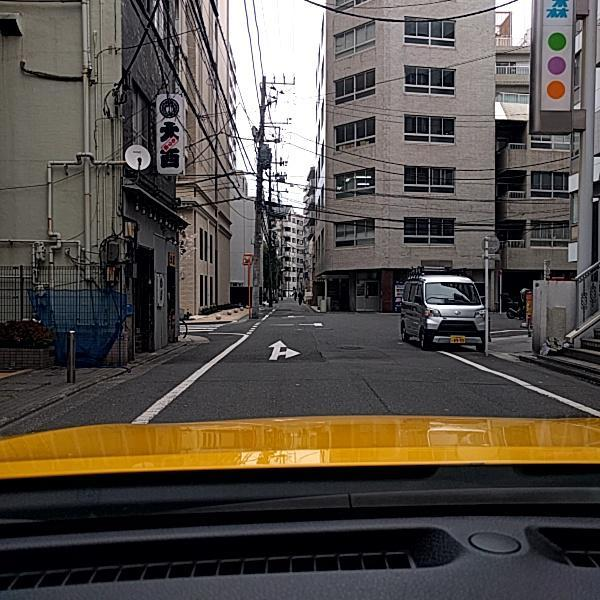D00: (358, 372, 390, 412)
